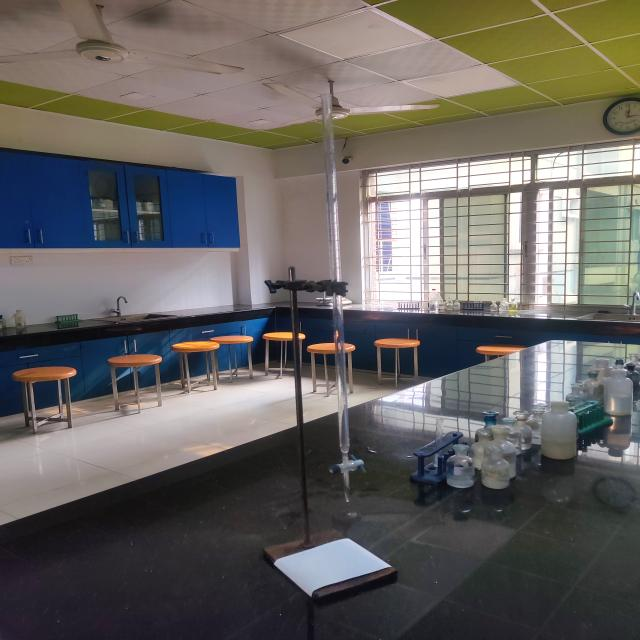Burette_Stands: (224, 262, 416, 630)
